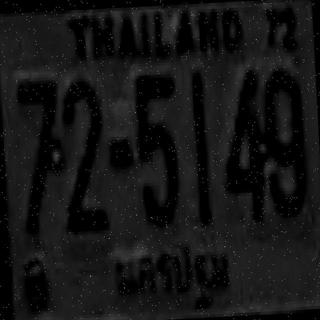N01: (189, 70, 210, 222)
N02: (58, 76, 106, 231)
N04: (219, 66, 266, 218)
N05: (134, 70, 180, 224)
N07: (15, 77, 62, 232)
N09: (260, 64, 306, 213)
P28: (107, 242, 238, 319)
